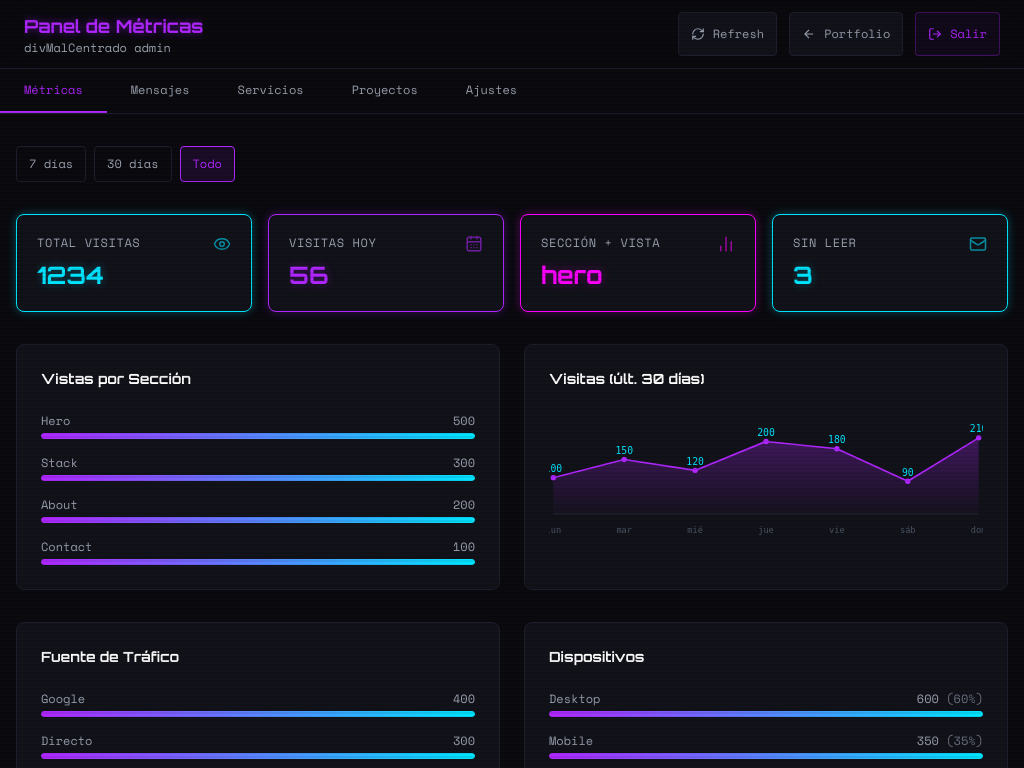
Test: Dashboard Component › switches to Mensajes tab on click
Click the button "Mensajes": (160, 91) x1=107 y1=69 x2=214 y2=113
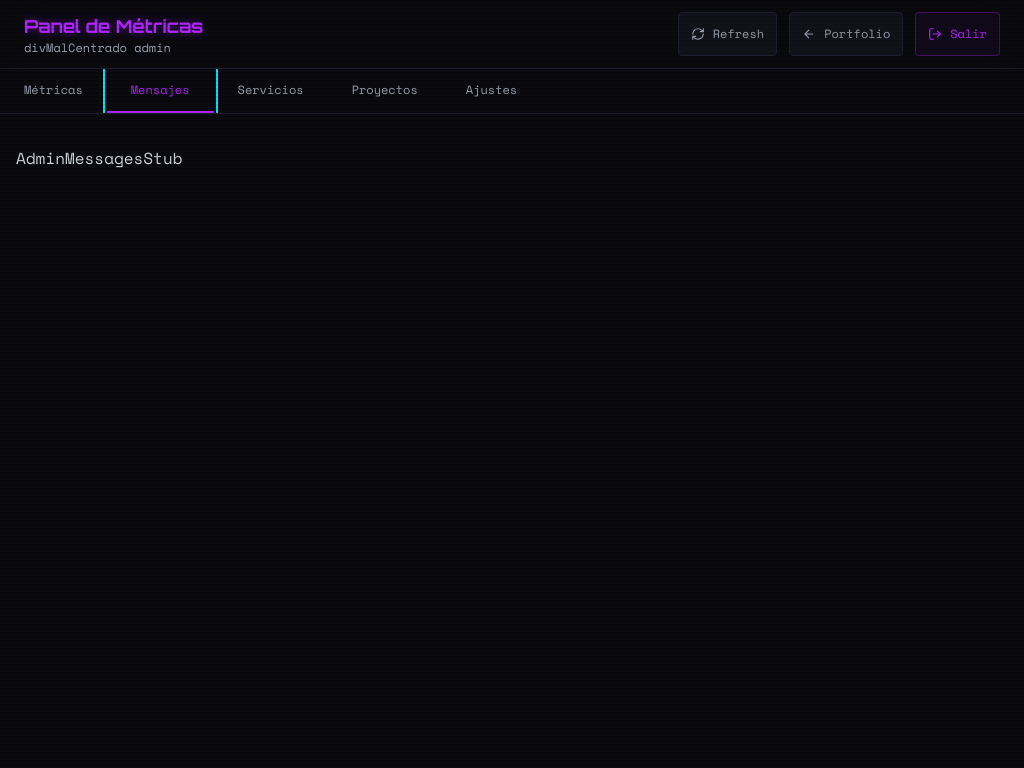
Now the text "AdminMessagesStub" is shown, box x1=16 y1=146 x2=182 y2=170
